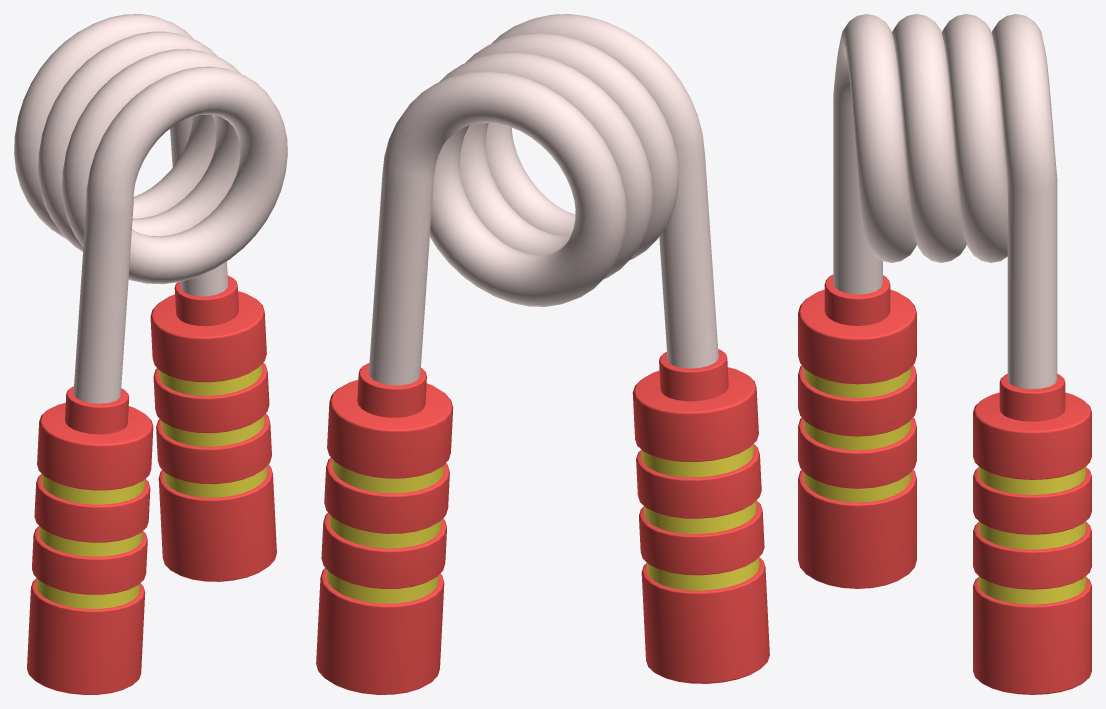
Rendered from Public_18_Hand_Grip_1.glb.
The picture shows the model from 3 angles, left to right: view 1: azimuth 30°, elevation 25°; view 2: azimuth 150°, elevation 25°; view 3: azimuth 270°, elevation 25°; orthographic projection. The views are drawn at different scales.
Parts seen in each view (by area): view 1: Public_18_Hand_Grip_1; view 2: Public_18_Hand_Grip_1; view 3: Public_18_Hand_Grip_1.
Part boxes in pixels (left/top/right/bottom): Public_18_Hand_Grip_1: left=14, top=14, right=287, bottom=694; Public_18_Hand_Grip_1: left=316, top=14, right=769, bottom=694; Public_18_Hand_Grip_1: left=798, top=14, right=1091, bottom=694.
Bounding box in the file's own units: 0.944 × 1.62 × 0.7251.
1 material, 1 textured.
